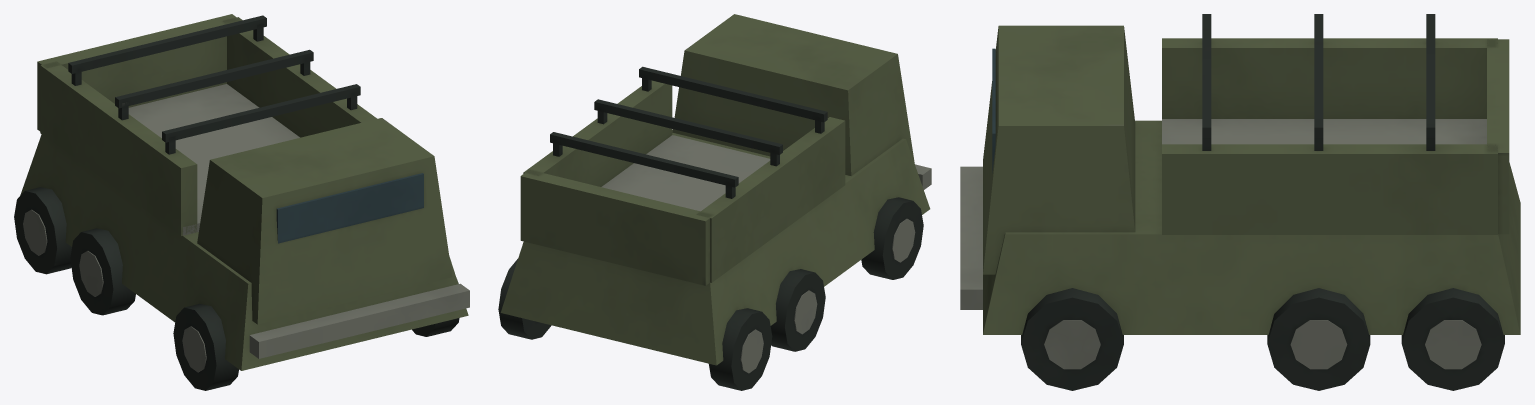
File: military-truck.fbx
The picture shows the model from 3 angles, left to right: view 1: azimuth 30°, elevation 25°; view 2: azimuth 150°, elevation 25°; view 3: azimuth 270°, elevation 25°; orthographic projection. The views are drawn at different scales.
Parts seen in each view (by area): view 1: military-truck; view 2: military-truck; view 3: military-truck.
Boxes of the visible parts, <box> form: military-truck: <box>14,14,469,390</box>; military-truck: <box>498,14,931,390</box>; military-truck: <box>960,14,1520,390</box>.
Bounding box in the file's own units: 15.2 × 12.25 × 25.
1 material, 1 textured.
